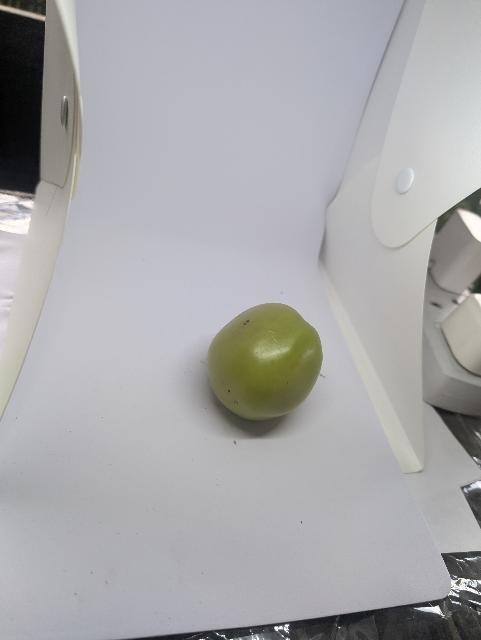green: (191, 293, 338, 437)
